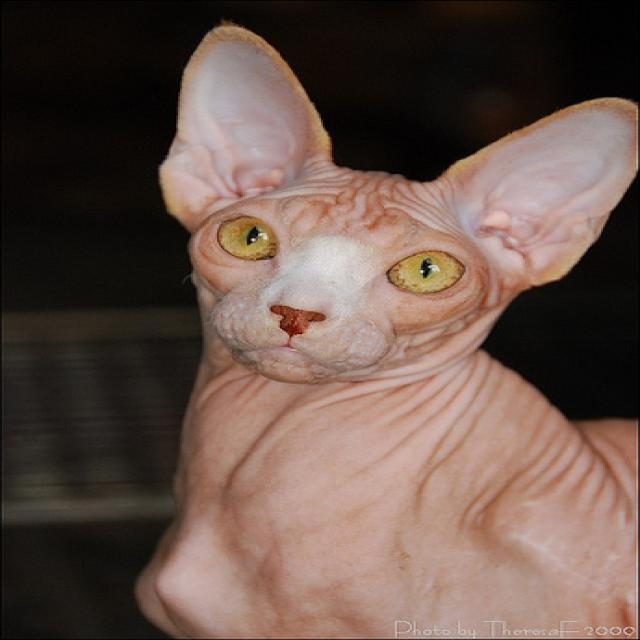Sphynx: (156, 23, 638, 381)
